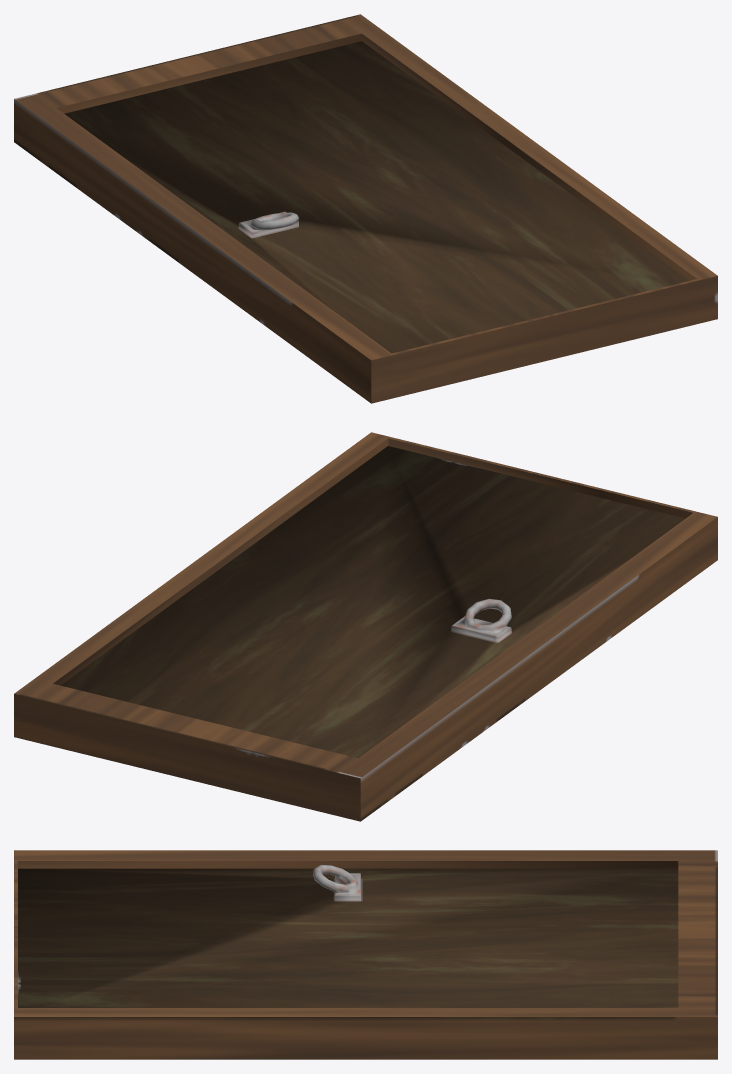
File: Cabin Door 2.fbx
The picture shows the model from 3 angles, top to bottom: view 1: azimuth 30°, elevation 25°; view 2: azimuth 150°, elevation 25°; view 3: azimuth 270°, elevation 25°; orthographic projection.
Parts seen in each view (by area): view 1: Door2, Doorframe2; view 2: Door2, Doorframe2; view 3: Door2, Doorframe2.
Boxes of the visible parts, x1,y1,x2,y2 form: Door2: (64,41,688,353); Doorframe2: (14,14,717,403); Door2: (61,446,685,758); Doorframe2: (14,432,717,821); Door2: (18,865,678,1007); Doorframe2: (14,850,717,1059).
Bounding box in the file's own units: 144 × 22.47 × 258.
